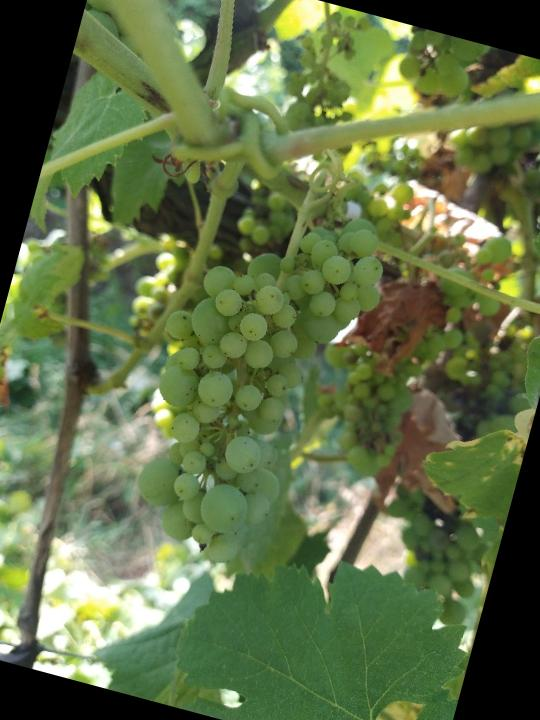grape: (106, 177, 402, 592)
